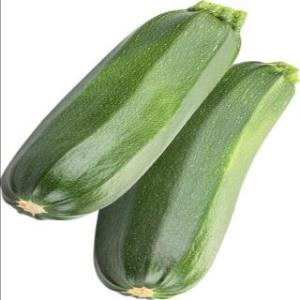zucchini: (15, 1, 226, 187)
